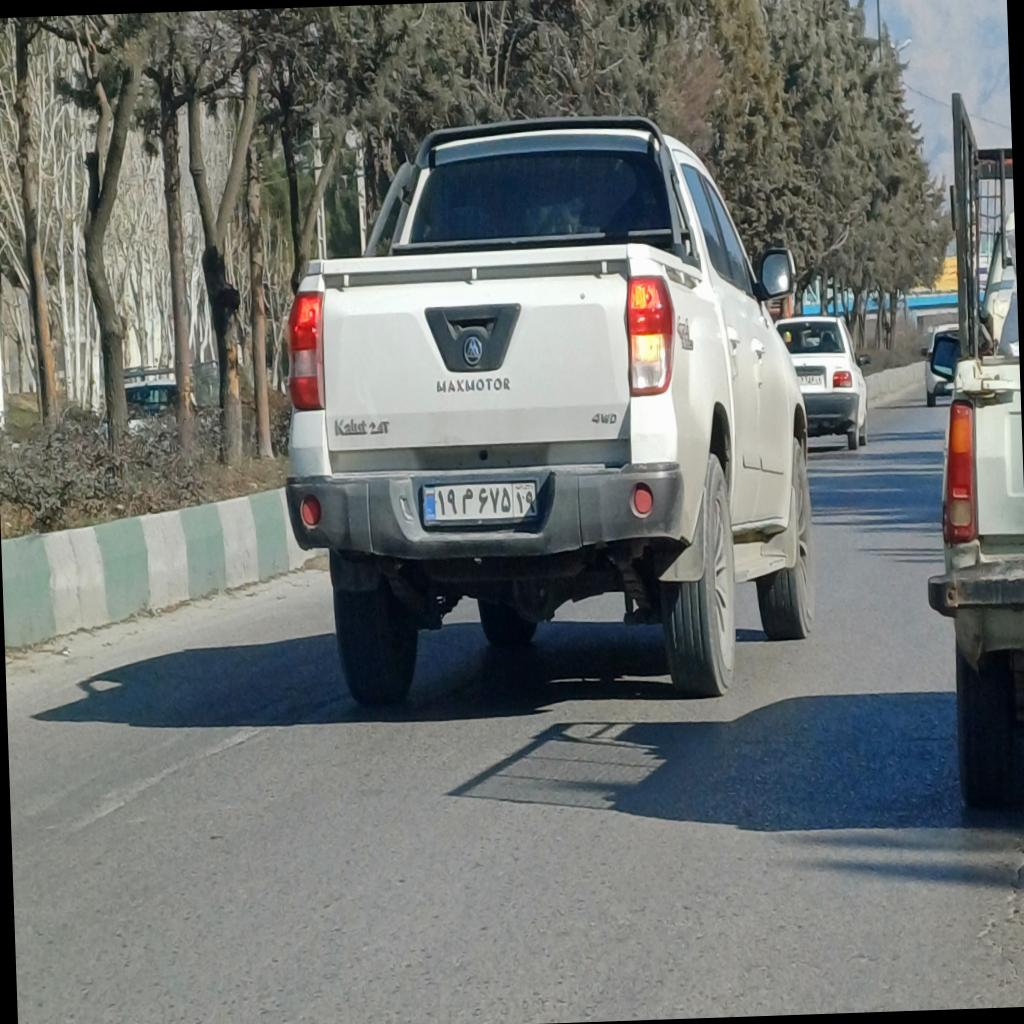Plates: (422, 478, 538, 520)
